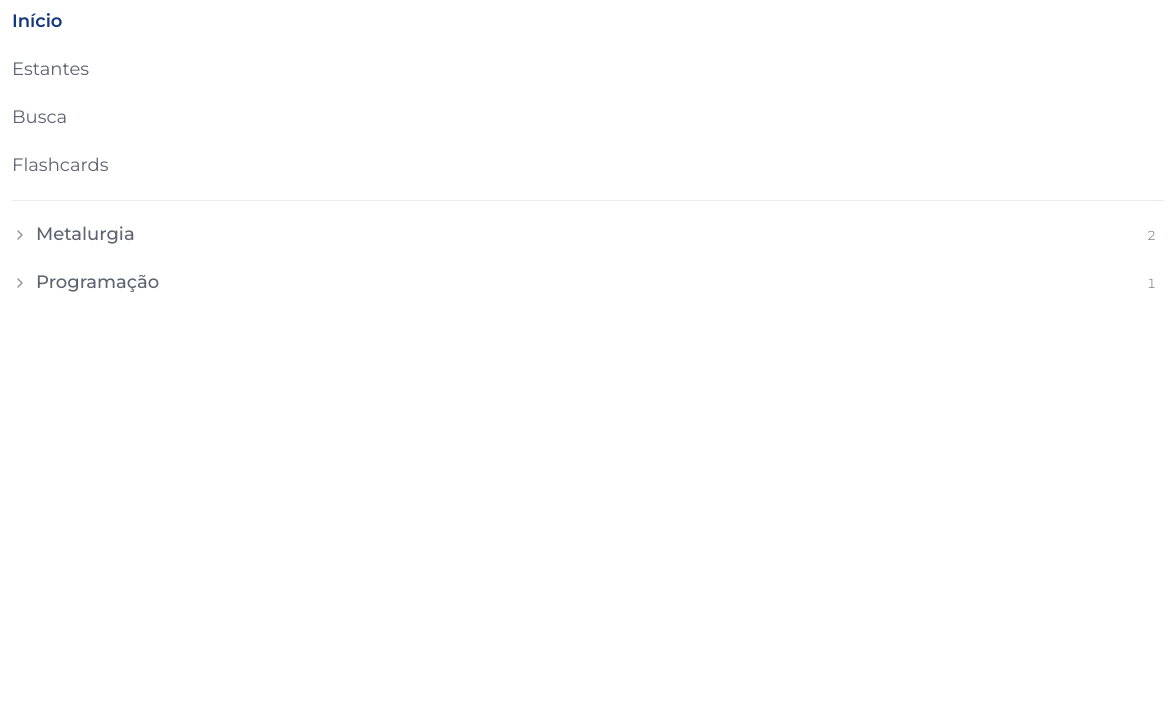
Test: SidebarTree › expands a guide into chapters and a chapter into its sections
Click the button "Metalurgia 2" at (85, 234), box [12, 213, 1164, 257]
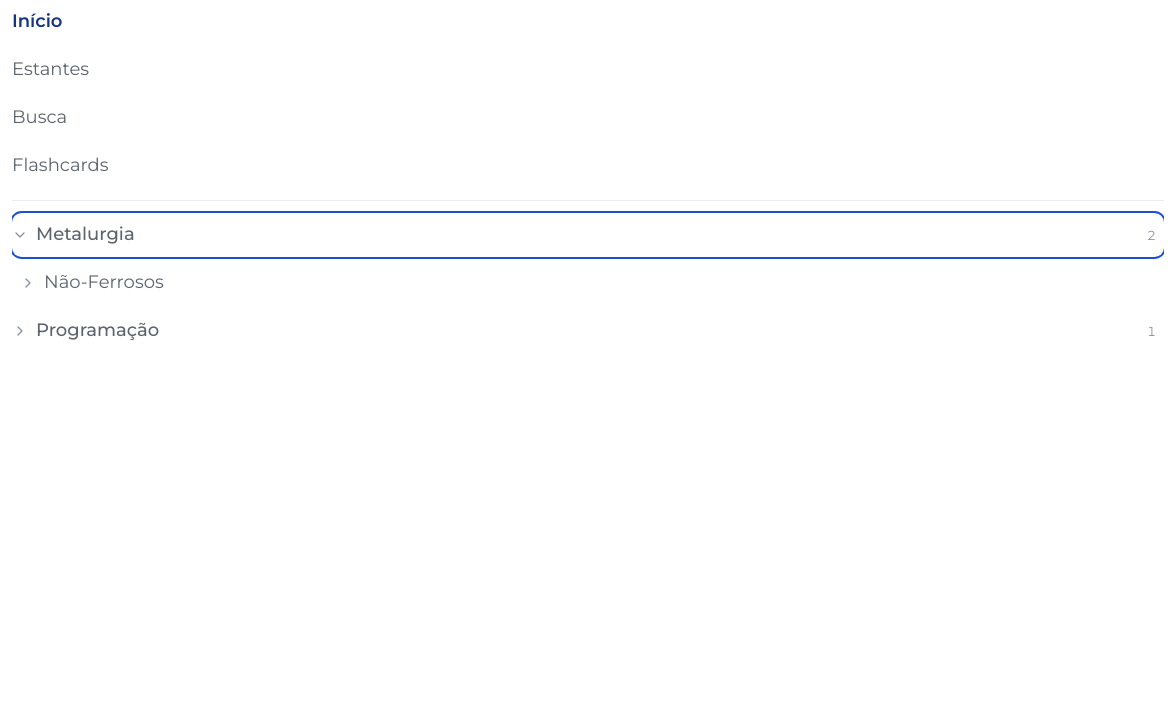
Click the button "Não-Ferrosos" at (104, 282), box [20, 261, 1164, 305]
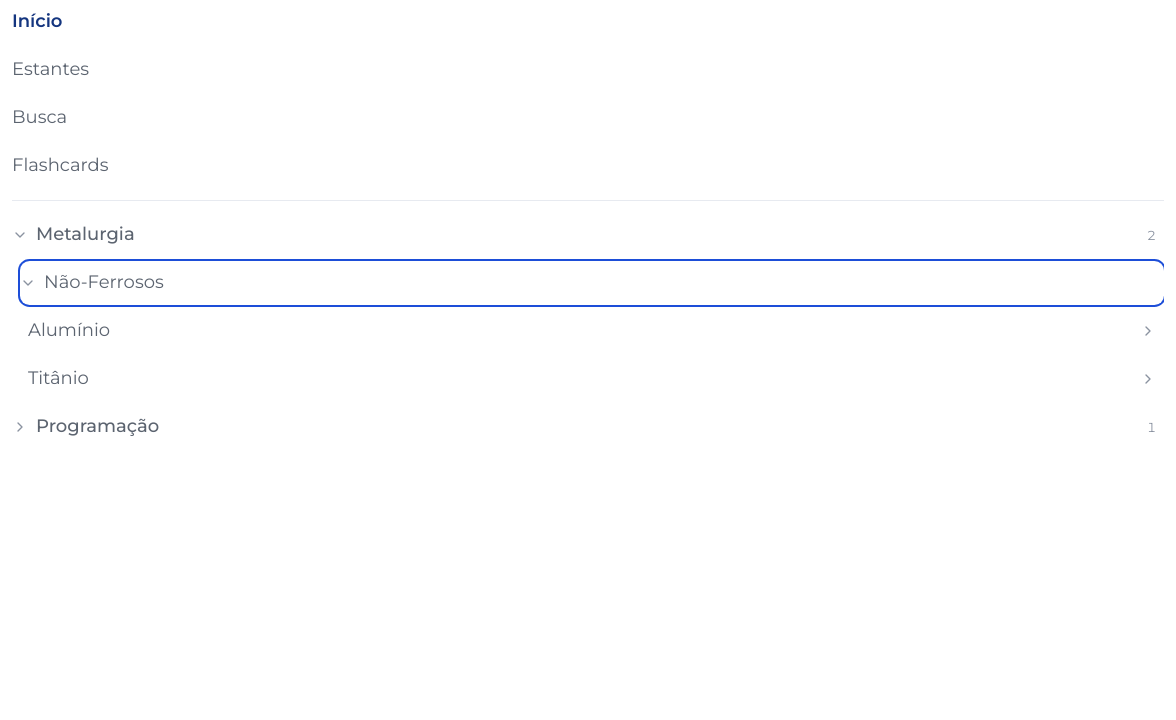
Click the button named "expandir capítulos de alumínio" at (1148, 331), box [1132, 309, 1164, 353]
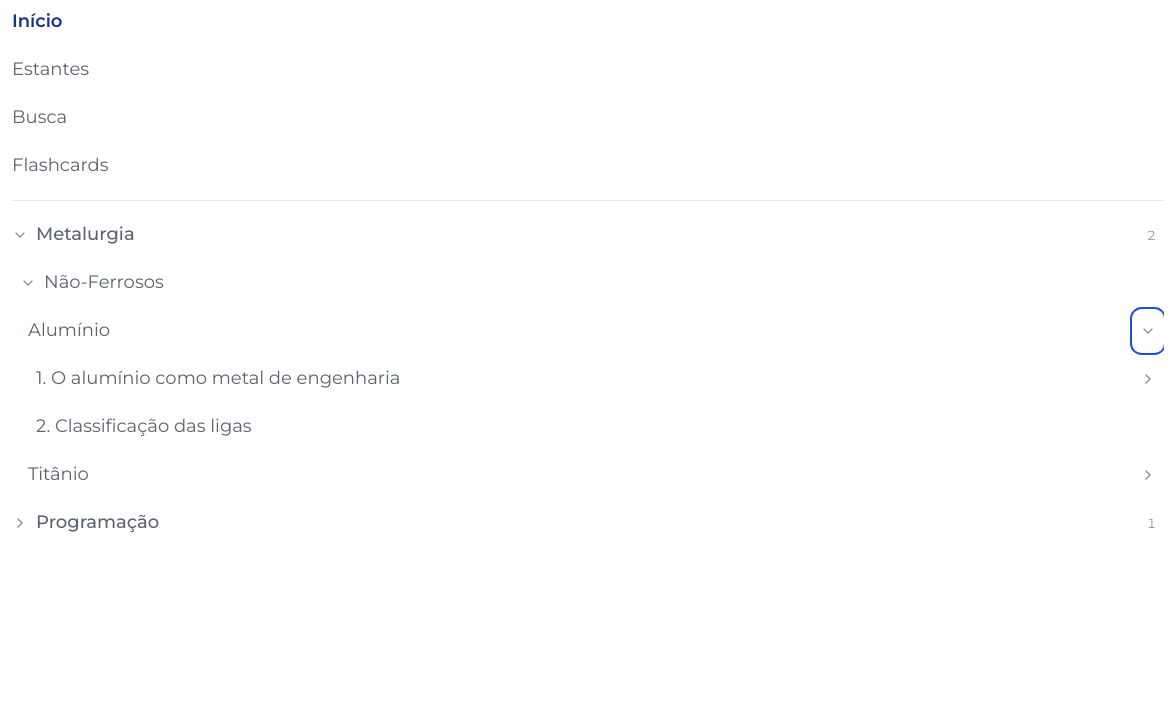
Check: the link "1.1 Propriedades físicas" is not shown
Click the button named "expandir seções de o alumínio" at (1148, 379), box [1132, 357, 1164, 401]
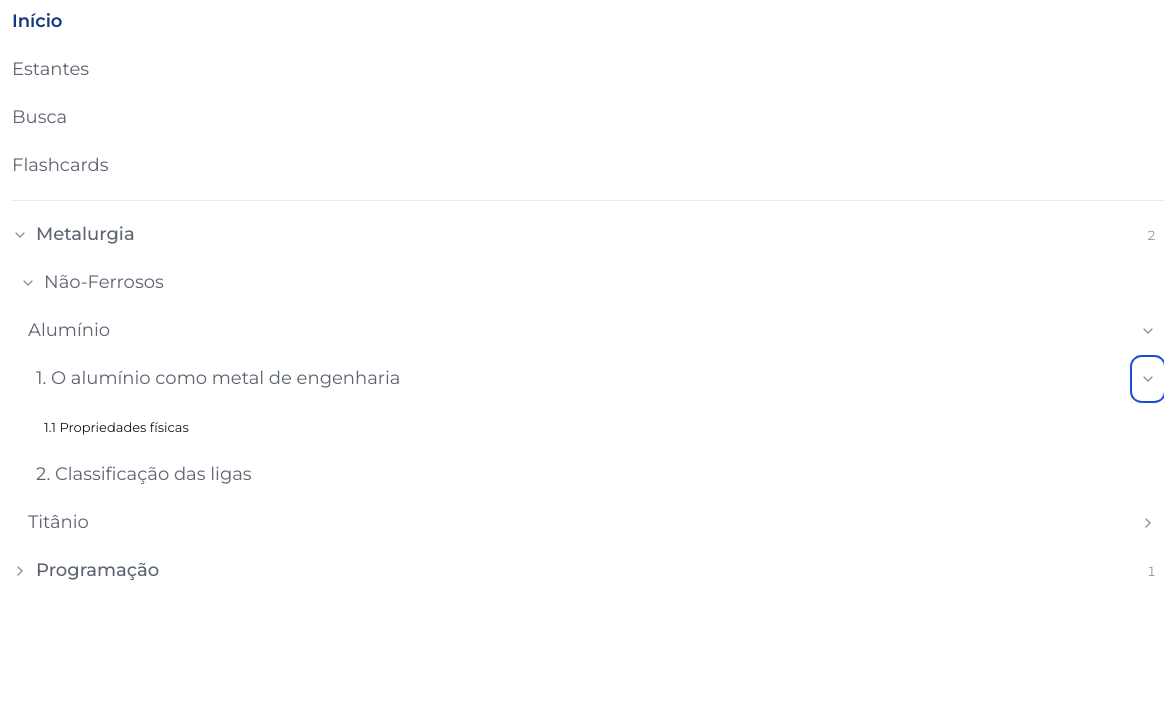
Check: the link "1.1 Propriedades físicas" is shown, box [44, 419, 189, 435]
Click the button named "recolher capítulos de alumínio" at (1148, 331), box [1132, 309, 1164, 353]
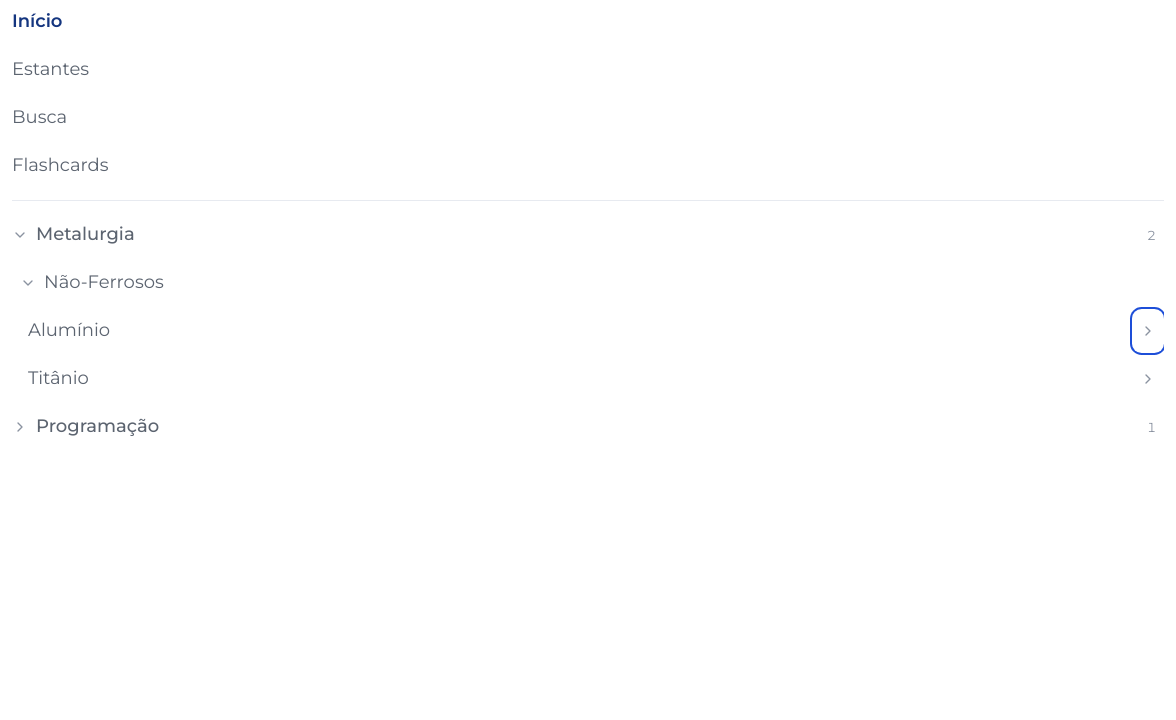
Check: the link "1. O alumínio como metal de engenharia" is gone
